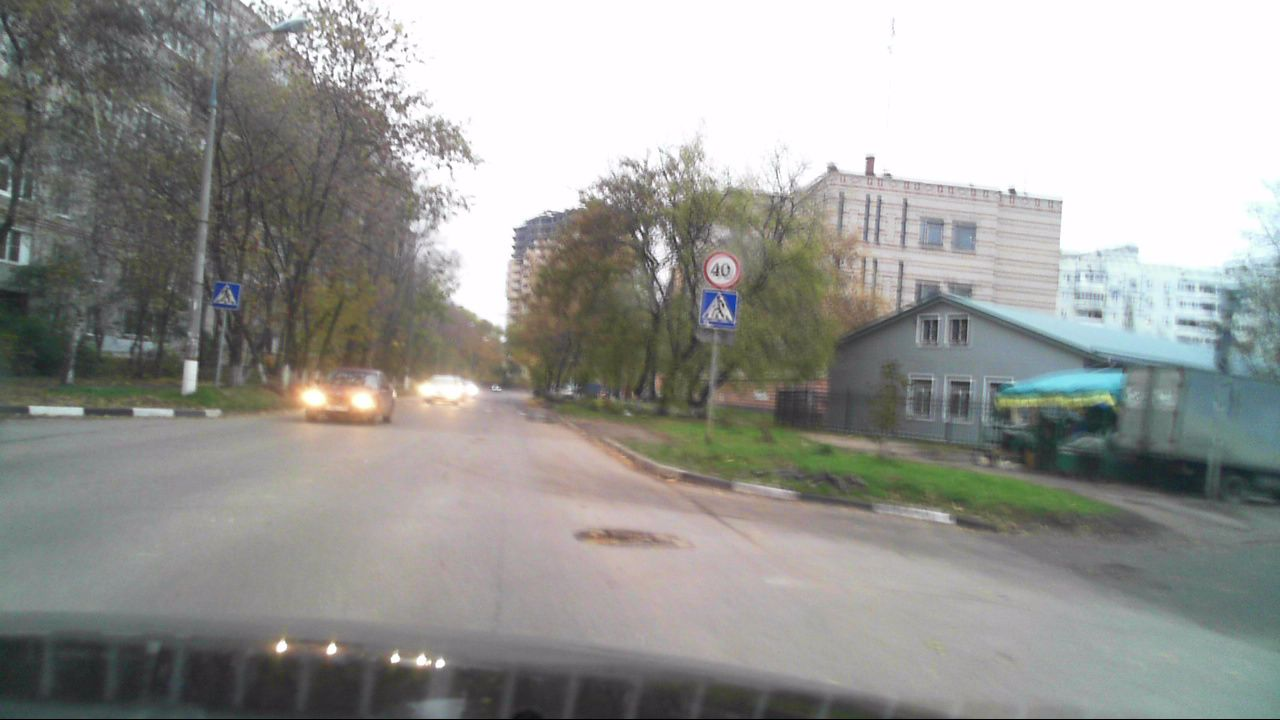speed_warning_40: (702, 250, 741, 287)
